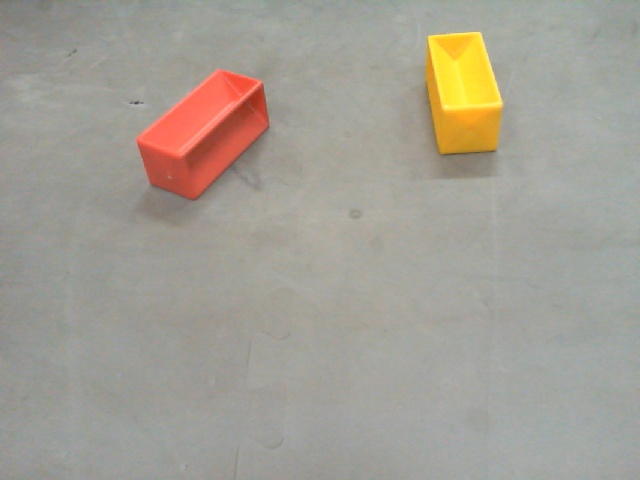RedSample: (136, 69, 268, 196)
YellowSample: (423, 27, 504, 160)
